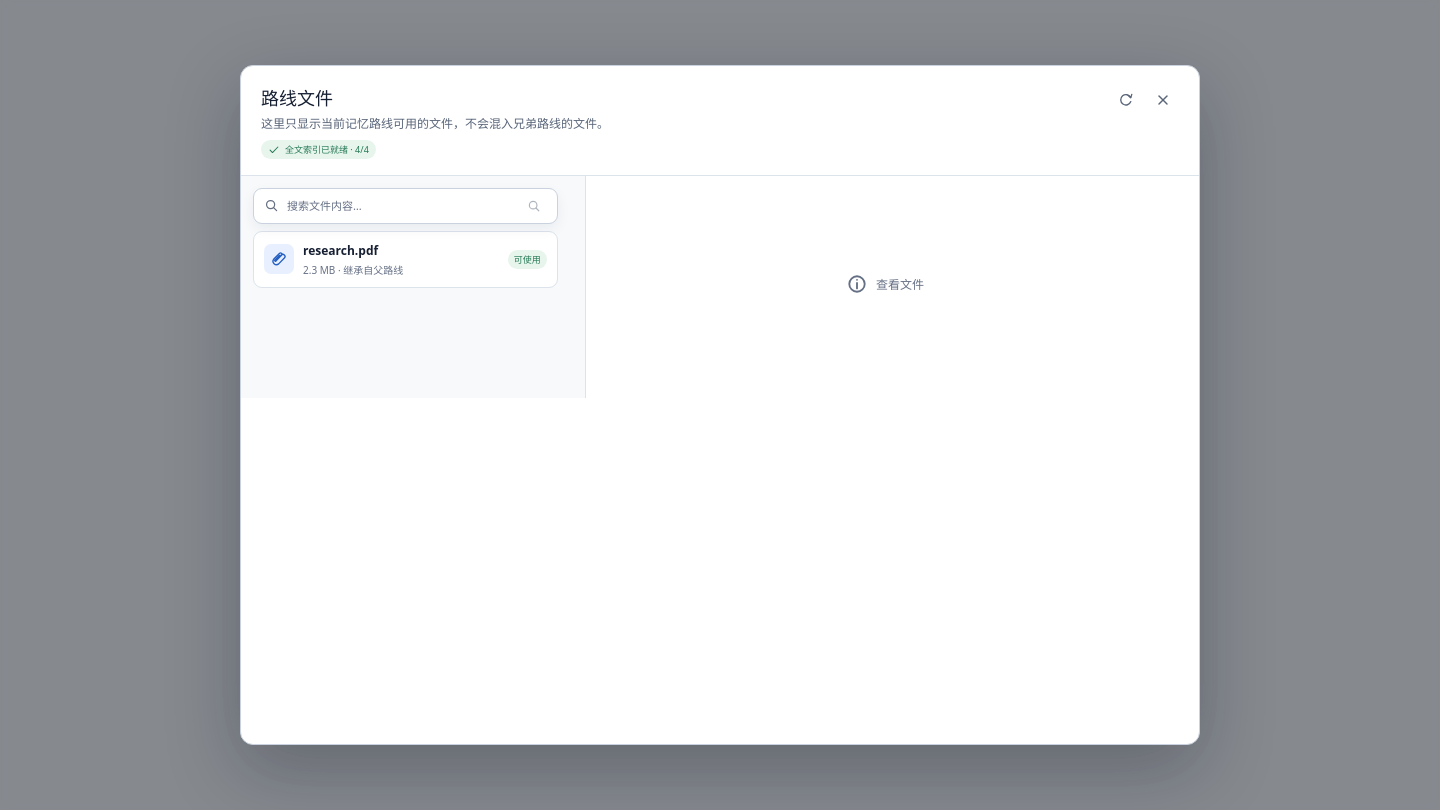
it: AttachmentManager › shows only route files and exposes the exact chunks used by a bound request
The width and height of the screenshot is (1440, 810).
Click the button "research.pdf 2.3 MB · 继承自父路线 可使用" at (341, 250), box [253,230,558,288]
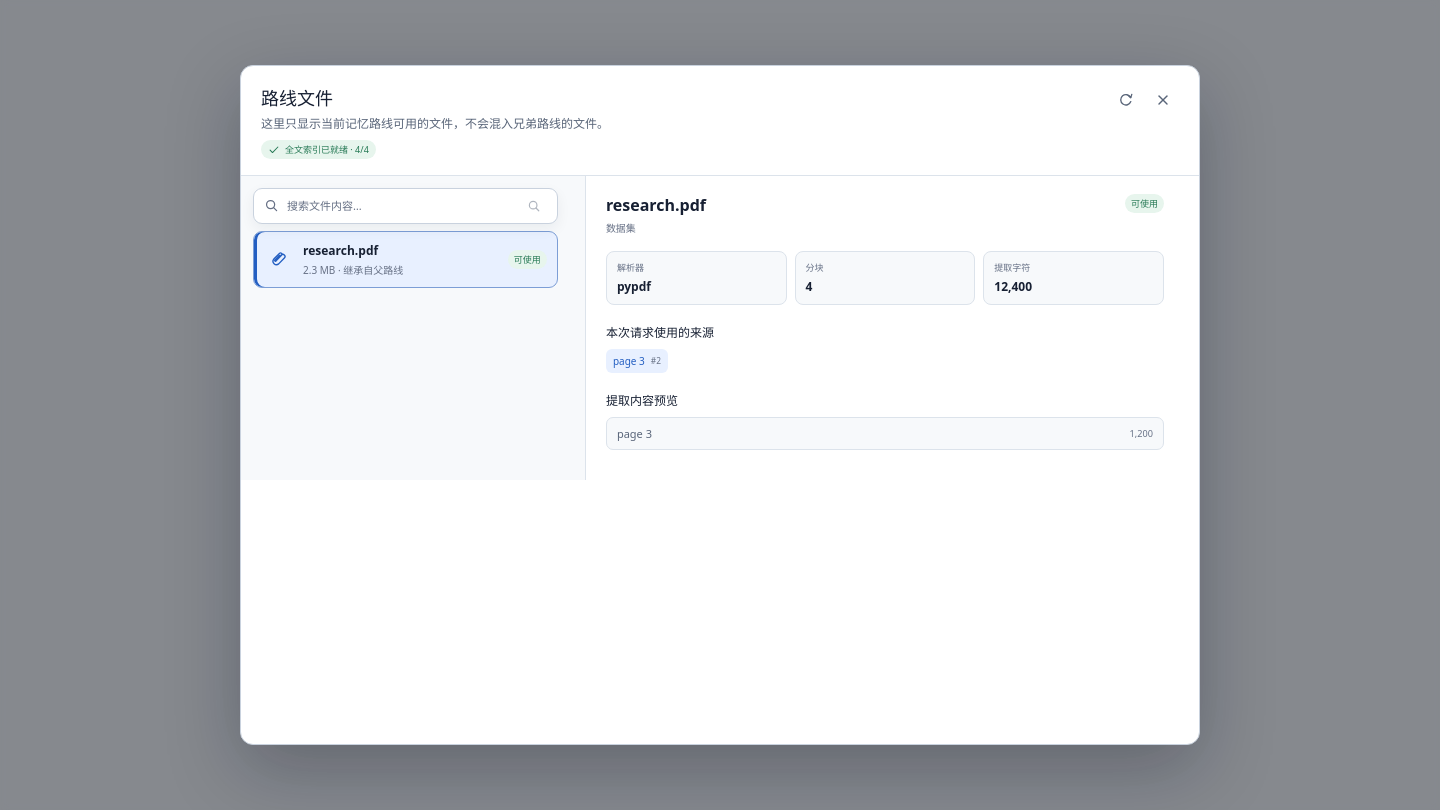
expect the heading "本次请求使用的来源" is shown: met, box [606,324,714,340]
expect the text "page 3" is shown 2 times: met, box [613,354,645,368]; [617,426,652,440]
expect the text "#2" is shown: met, box [651,355,661,366]
